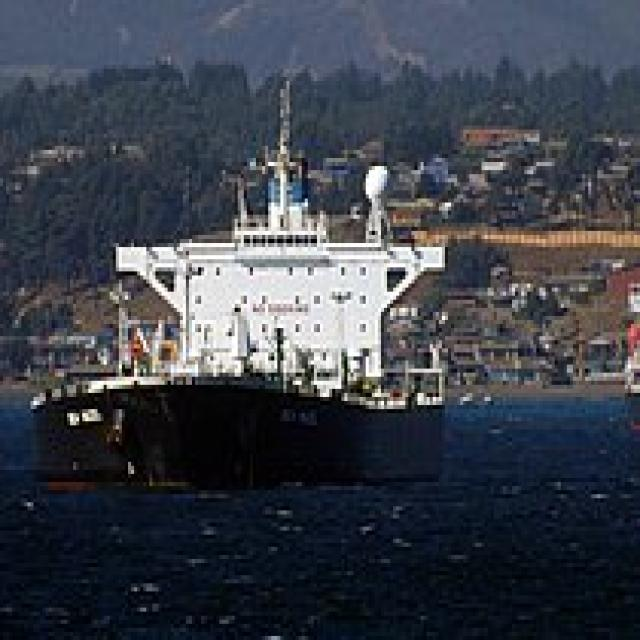Tanker: (24, 77, 448, 494)
